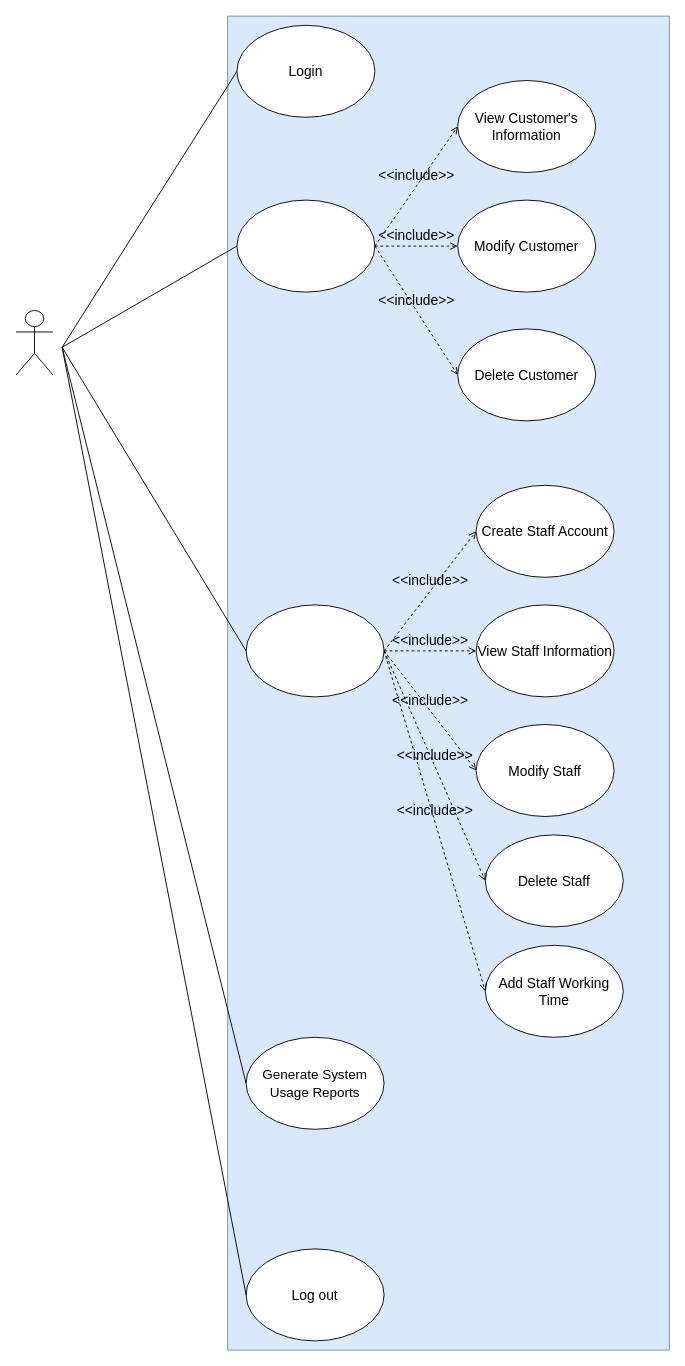
Some shapes in this 685 by 1366 pixel diagram are drawn without their labels. The shapes that lost their labels are listed below. From the top down, each one's centre as x and y in pixels, then its label:
the point at 305,245: Customer Manage
the point at 34,342: IT
the point at 314,650: Staff Manage
